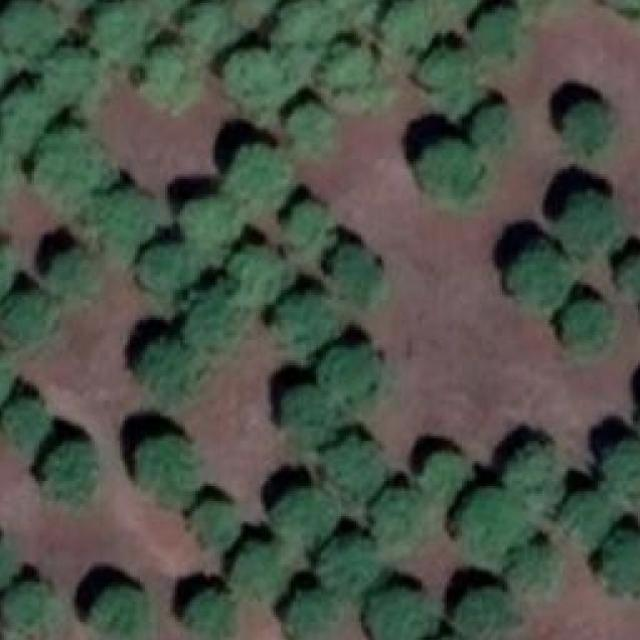Tree: (29, 129, 108, 208), (128, 33, 207, 106), (135, 436, 208, 514), (271, 283, 341, 356), (447, 481, 519, 550), (502, 237, 572, 306), (135, 335, 205, 404), (178, 280, 248, 348), (274, 378, 346, 444), (420, 136, 487, 206), (223, 147, 293, 213), (37, 439, 105, 503), (223, 46, 292, 109), (363, 471, 423, 543), (417, 46, 481, 113), (316, 334, 384, 397), (79, 1, 154, 57), (90, 192, 156, 255), (268, 486, 338, 545), (408, 441, 471, 506), (84, 582, 155, 639), (324, 242, 387, 306), (319, 431, 385, 492), (560, 192, 621, 257), (585, 526, 640, 598), (175, 194, 240, 254), (444, 581, 510, 640), (324, 46, 384, 108), (37, 45, 101, 103), (278, 0, 340, 59), (227, 543, 286, 603), (361, 581, 421, 640), (0, 581, 59, 640), (512, 534, 566, 598), (555, 297, 615, 354), (505, 439, 559, 502), (321, 534, 380, 589), (555, 486, 611, 543), (0, 0, 59, 54), (0, 287, 49, 352), (225, 242, 282, 297), (379, 1, 435, 56), (173, 587, 234, 637), (39, 249, 95, 303), (135, 242, 192, 295), (0, 76, 49, 137), (279, 199, 332, 255), (186, 496, 241, 549), (560, 99, 612, 153), (168, 1, 233, 44), (4, 395, 53, 452), (467, 6, 524, 53), (284, 585, 336, 634), (601, 434, 640, 494), (470, 104, 512, 156), (615, 246, 640, 295)
